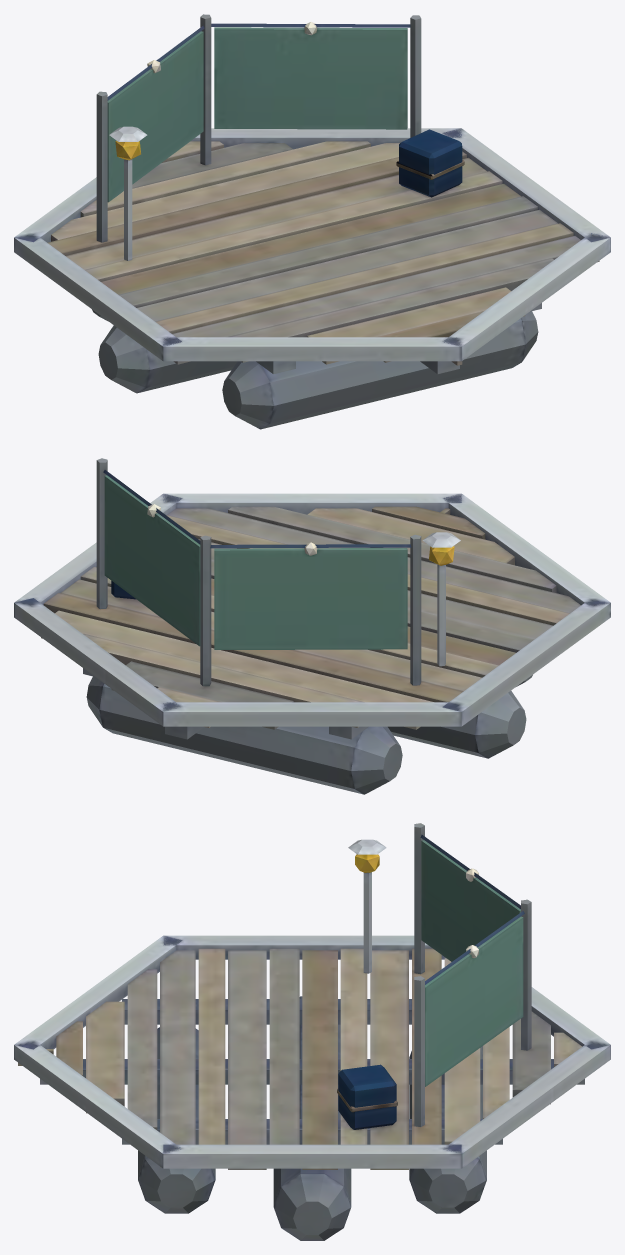
File: raft-b-age20.glb
3 views of the same model, one above another, from view 1: azimuth 30°, elevation 25°; view 2: azimuth 150°, elevation 25°; view 3: azimuth 270°, elevation 25° (orthographic).
Visible parts, largest first — view 1: raft-b-age20; view 2: raft-b-age20; view 3: raft-b-age20.
Part boxes in pixels (bbox=[...]): raft-b-age20: bbox=[14, 14, 610, 429]; raft-b-age20: bbox=[14, 458, 610, 794]; raft-b-age20: bbox=[14, 823, 610, 1240].
Size of the model in its own units: 1.6 by 0.8542 by 1.85.
1 material, 1 textured.
